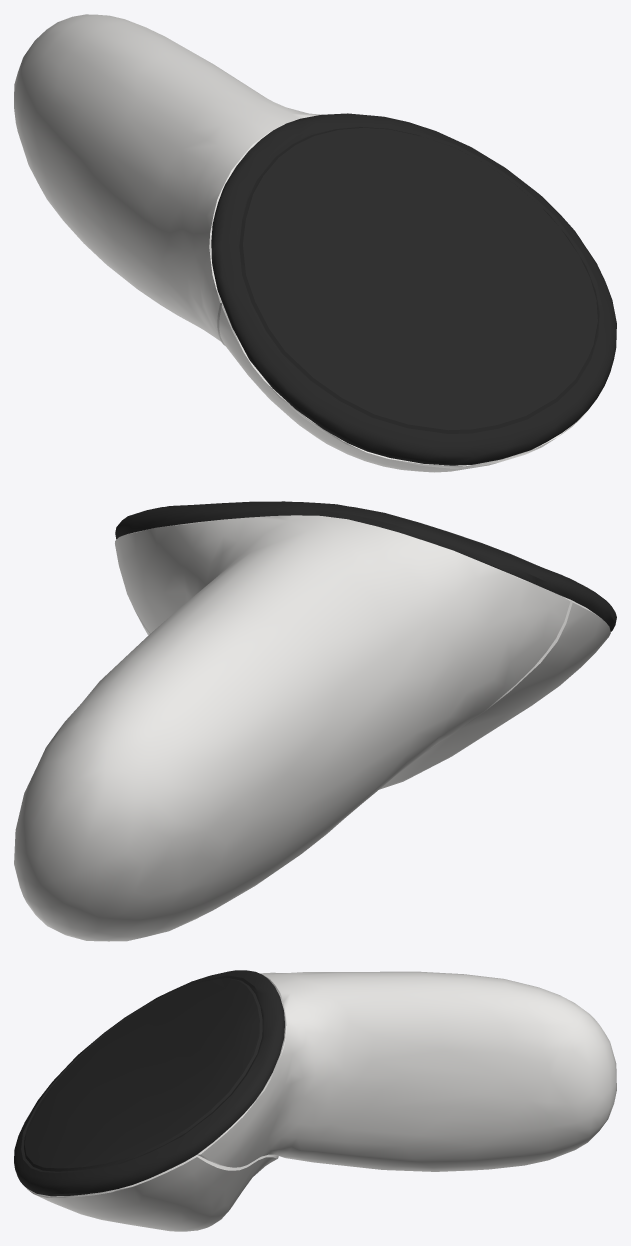
Rendered from MR_Controller_R.gltf.
The picture shows the model from 3 angles, top to bottom: view 1: azimuth 30°, elevation 25°; view 2: azimuth 150°, elevation 25°; view 3: azimuth 270°, elevation 25°; orthographic projection. The views are drawn at different scales.
Parts seen in each view (by area): view 1: genericController_R_geo; view 2: genericController_R_geo; view 3: genericController_R_geo.
Boxes of the visible parts, x1,y1,x2,y2 form: genericController_R_geo: (14,14,616,472); genericController_R_geo: (14,501,616,941); genericController_R_geo: (14,970,616,1231).
Bounding box in the file's own units: 0.0654 × 0.0488 × 0.1232.
Materials: 1 (1 with a texture image).
